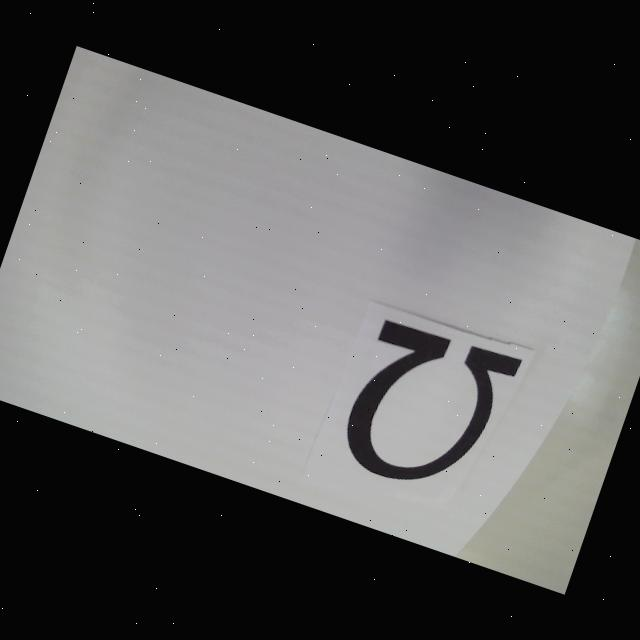OMEGA: (334, 312, 522, 508)
